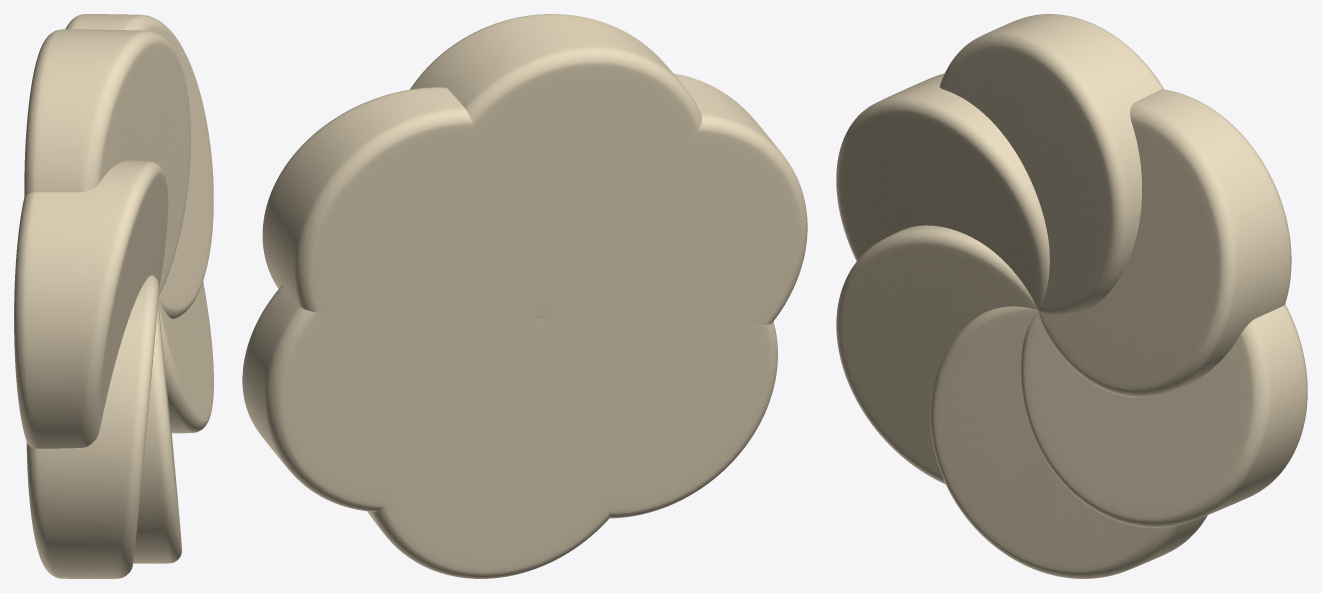
The picture shows the model from 3 angles, left to right: view 1: azimuth 30°, elevation 25°; view 2: azimuth 150°, elevation 25°; view 3: azimuth 270°, elevation 25°; orthographic projection. The views are drawn at different scales.
Visible parts, largest first — view 1: Circle; view 2: Circle; view 3: Circle.
Boxes of the visible parts, left/top/right/bottom form: Circle: left=14, top=14, right=213, bottom=578; Circle: left=242, top=14, right=807, bottom=578; Circle: left=836, top=14, right=1307, bottom=578.
Size of the model in its own units: 69183 by 95689 by 79586.
